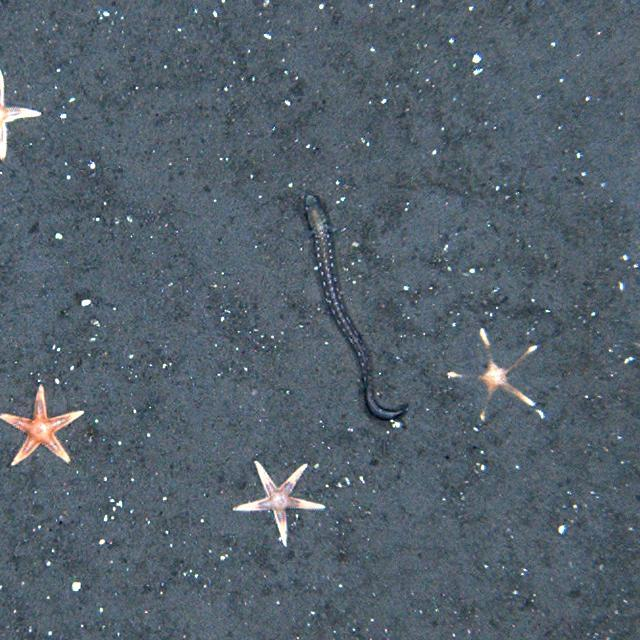roundfish: (297, 195, 407, 418)
